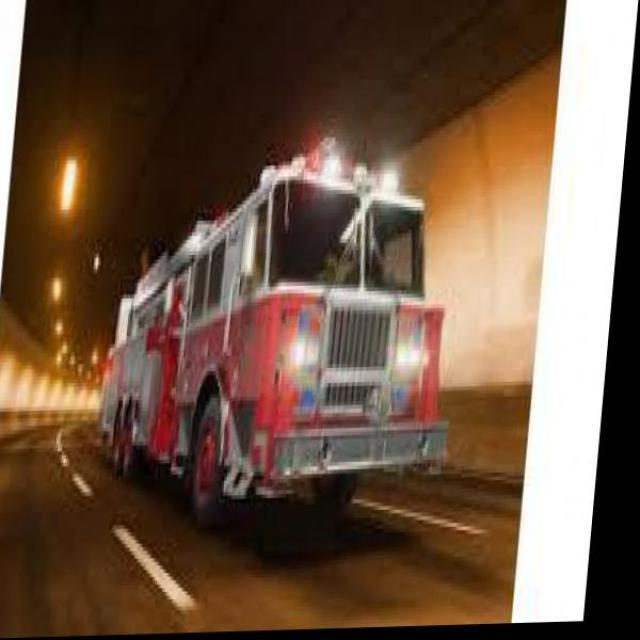emergency: (95, 130, 451, 550)
